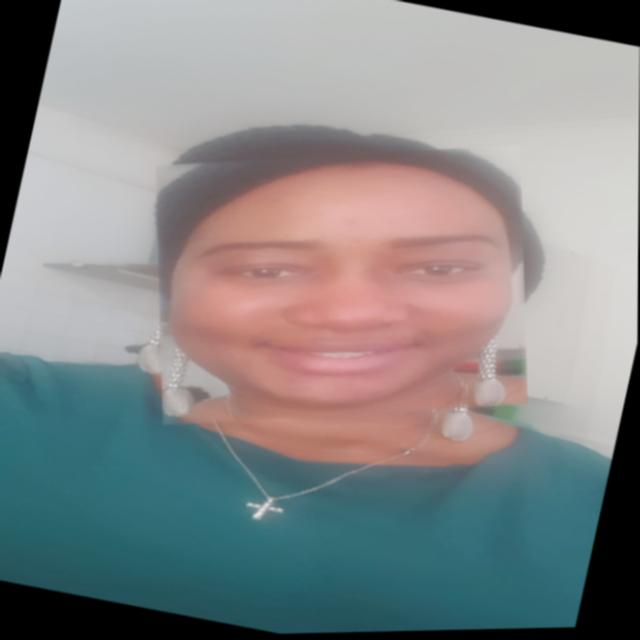happy: (117, 95, 564, 478)
